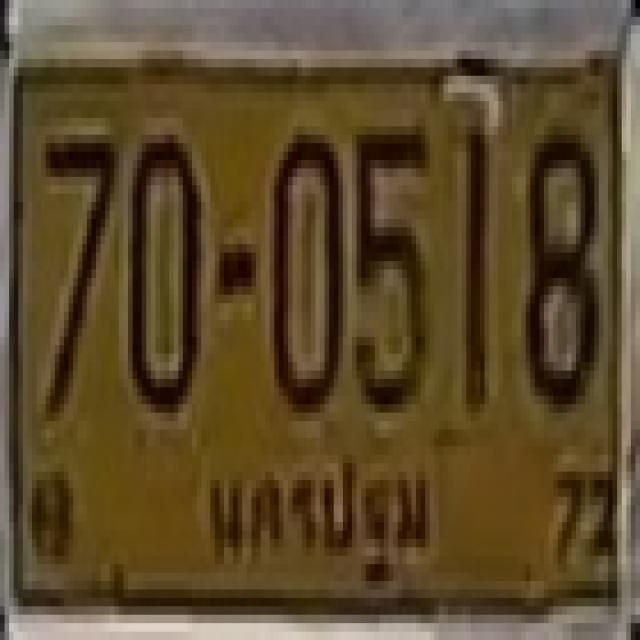0: (128, 126, 197, 404), (270, 126, 338, 404)
1: (462, 118, 484, 404)
5: (352, 118, 425, 404)
7: (41, 126, 114, 404)
8: (521, 118, 594, 404)
NPT: (201, 445, 433, 583)
